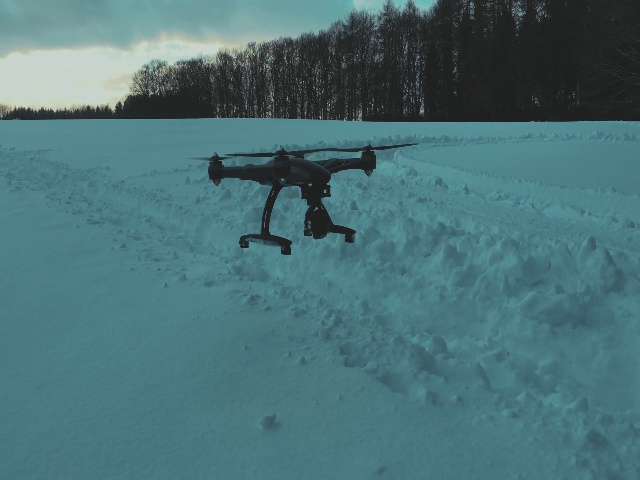drone: (185, 139, 421, 259)
